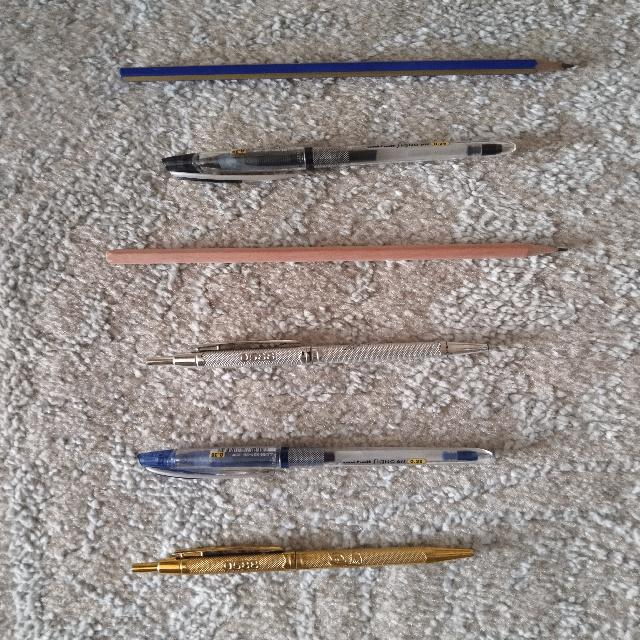pen: (163, 141, 515, 181), (137, 447, 493, 477)
pencil: (120, 59, 573, 81), (106, 243, 565, 263)
signature pen: (132, 546, 473, 574), (147, 340, 487, 367)
